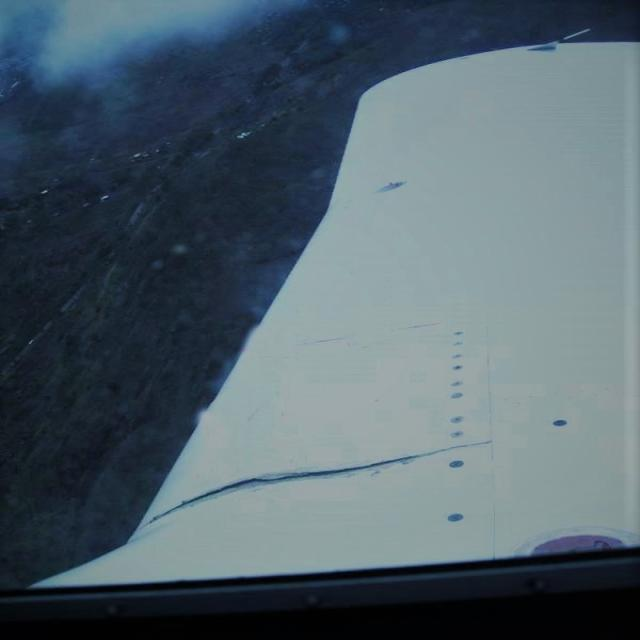Rupture: (139, 433, 533, 530)
